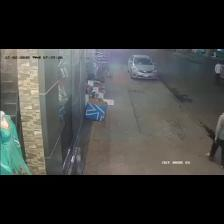person: (209, 113, 223, 167), (215, 62, 221, 83)
